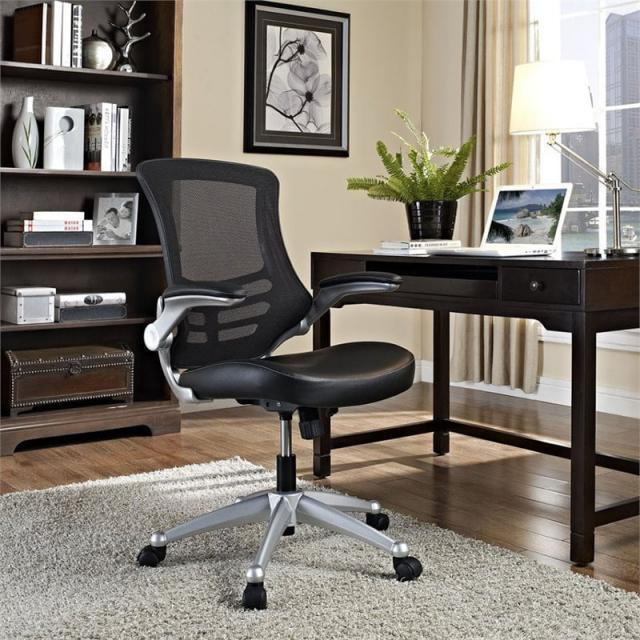chair: (102, 118, 440, 640)
